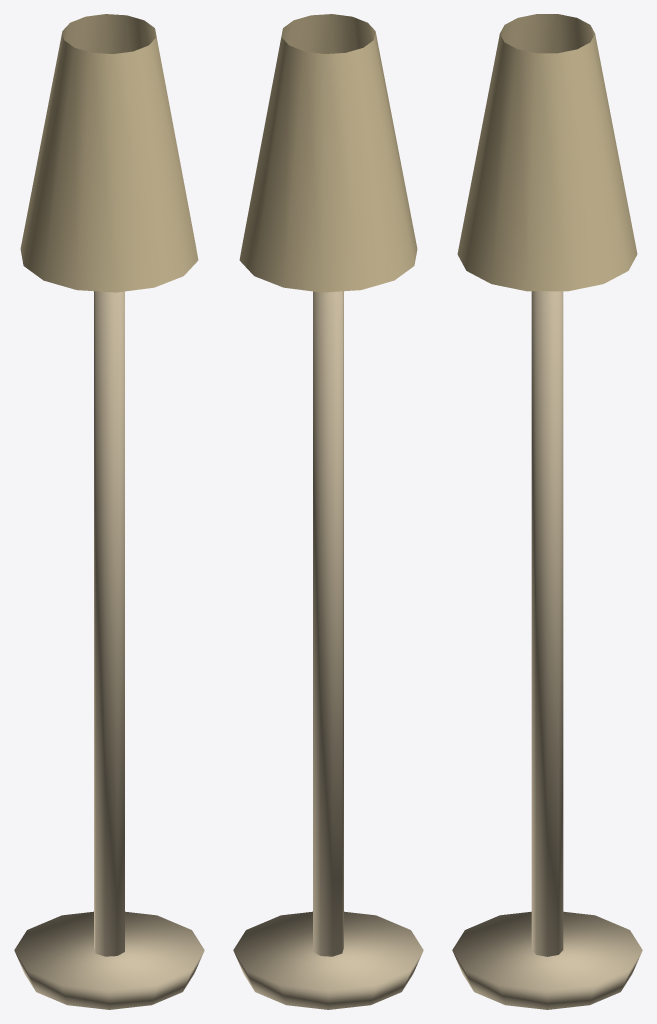
File: boreal_lamp_v0.glb
The picture shows the model from 3 angles, left to right: view 1: azimuth 30°, elevation 25°; view 2: azimuth 150°, elevation 25°; view 3: azimuth 270°, elevation 25°; orthographic projection.
Parts seen in each view (by area): view 1: boreal_lamp_v0; view 2: boreal_lamp_v0; view 3: boreal_lamp_v0.
Boxes of the visible parts, x1,y1,x2,y2 form: boreal_lamp_v0: [14, 14, 204, 1009]; boreal_lamp_v0: [233, 14, 423, 1009]; boreal_lamp_v0: [452, 14, 642, 1009].
Bounding box in the file's own units: 0.36 × 1.96 × 0.36.
